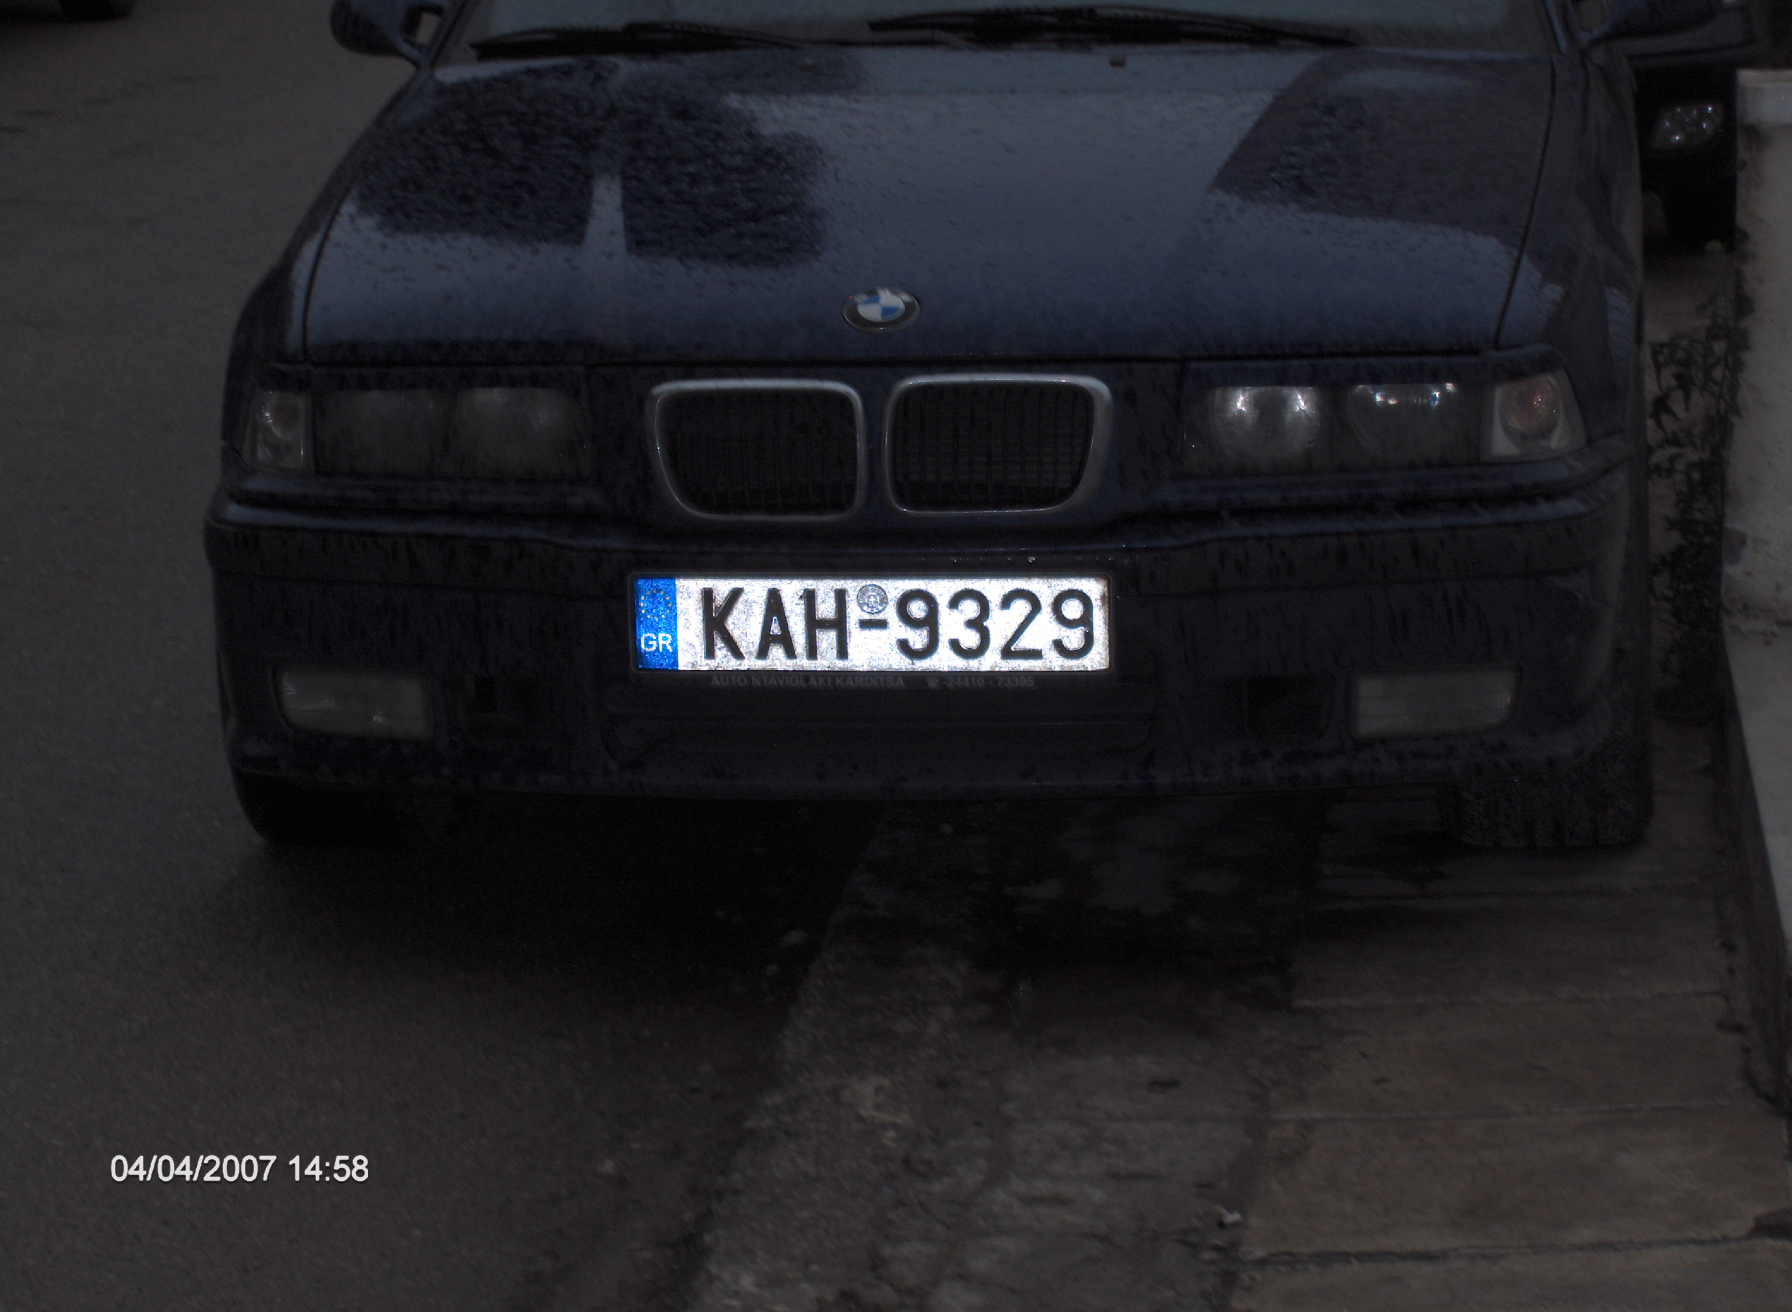licenseplate: (627, 575, 1110, 675)
